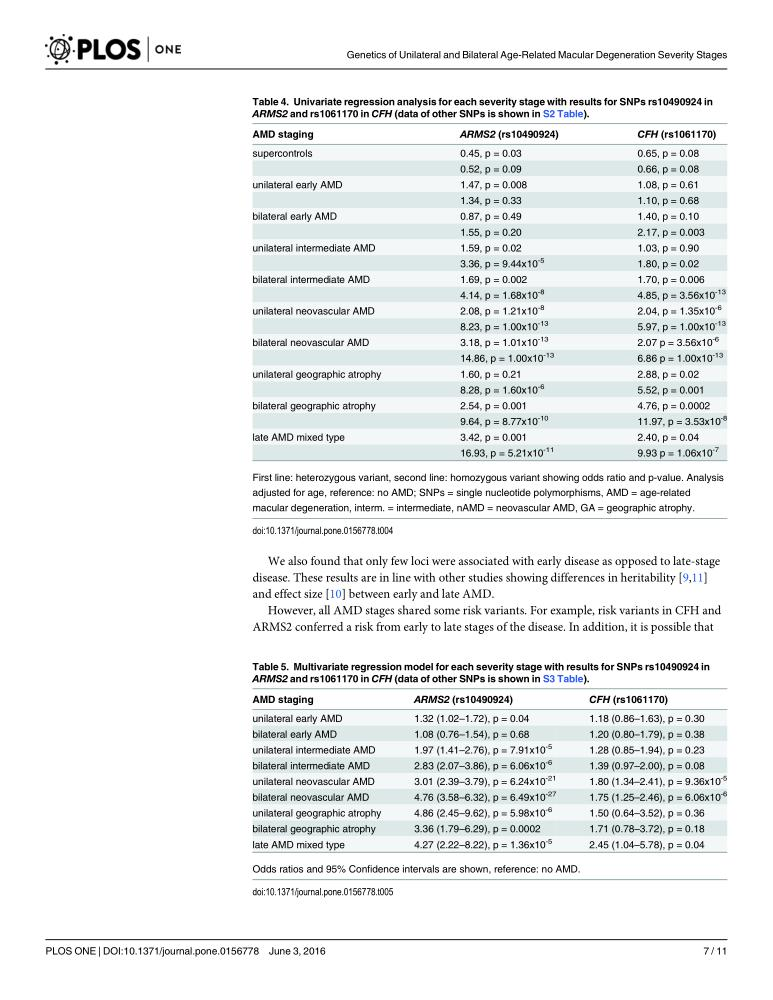table: (252, 128, 726, 458), (252, 693, 726, 850)
